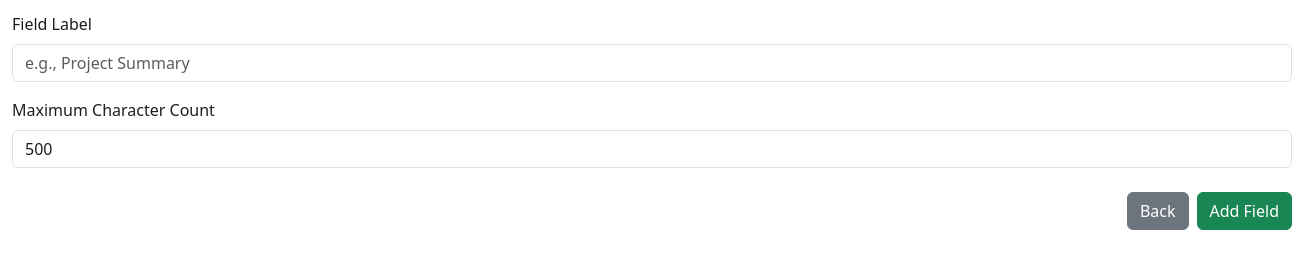
Test: TextFieldConfigurator › validation error shown when label is empty
This screenshot has width=1304, height=272.
# Try to submit the form with an empty label field to trigger validation error
Click the button "Add Field".
click(1244, 211)  # box [1196,192,1292,230]
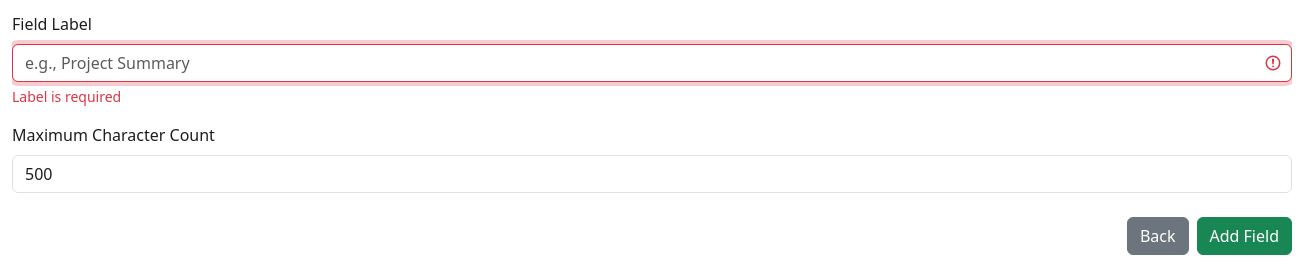
Expected: the text "Label is required" is shown, [12,87,121,106]
